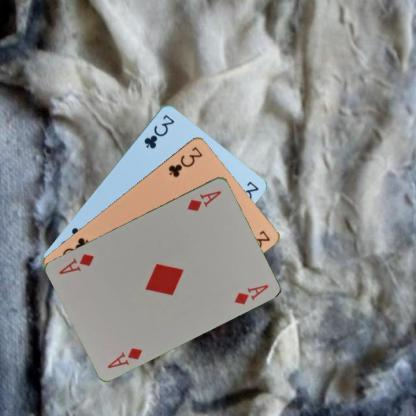3c: (141, 112, 176, 150), (166, 144, 204, 178)
Ad: (104, 344, 144, 370), (184, 187, 223, 212)
